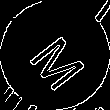M_NE: (21, 22, 89, 88)
